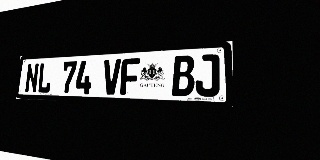4: (75, 60, 93, 94)
7: (61, 61, 77, 94)
B: (172, 55, 195, 96)
F: (120, 58, 140, 95)
J: (195, 54, 220, 97)
L: (37, 62, 52, 93)
N: (24, 63, 39, 93)
V: (102, 59, 121, 95)
